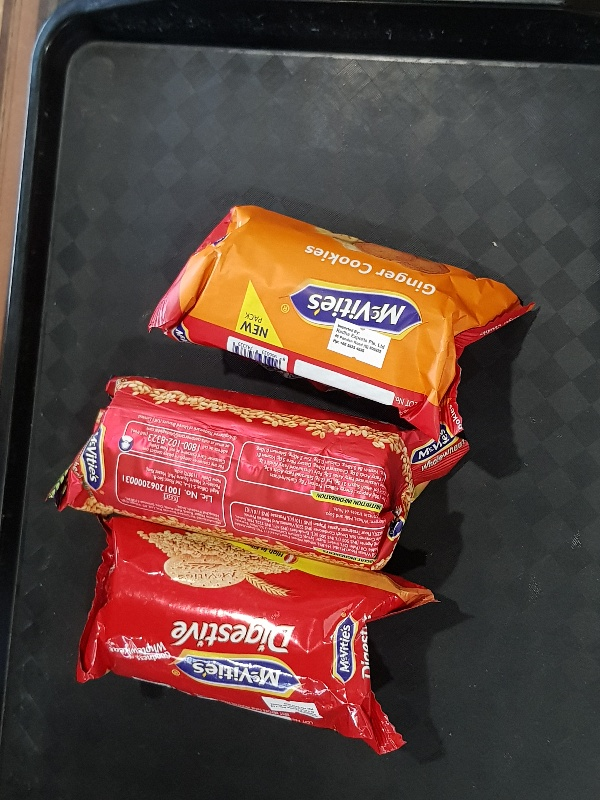McVitie's Ginger Cookies: (149, 203, 534, 436)
McVitie's Wholewheat Marie: (44, 374, 432, 570)
Mcvitie's Digestive: (74, 514, 437, 754)
